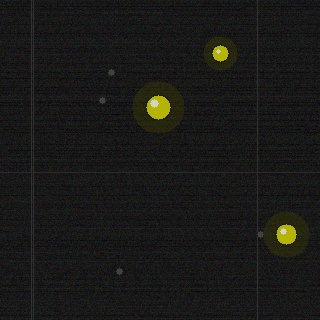yellow_warning: (144, 93, 172, 121), (274, 222, 298, 246), (210, 43, 230, 63)
